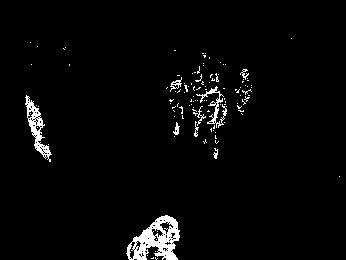person: (22, 95, 56, 166), (203, 80, 227, 162), (169, 74, 189, 137)
